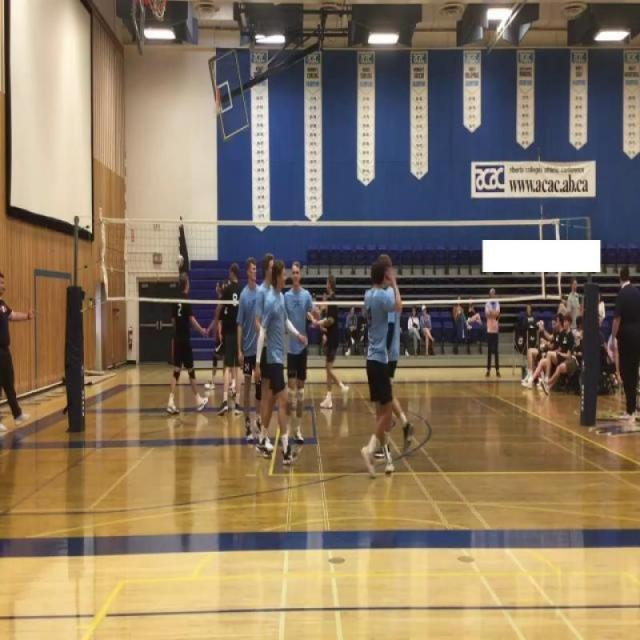volleyball: (176, 253, 184, 268)
